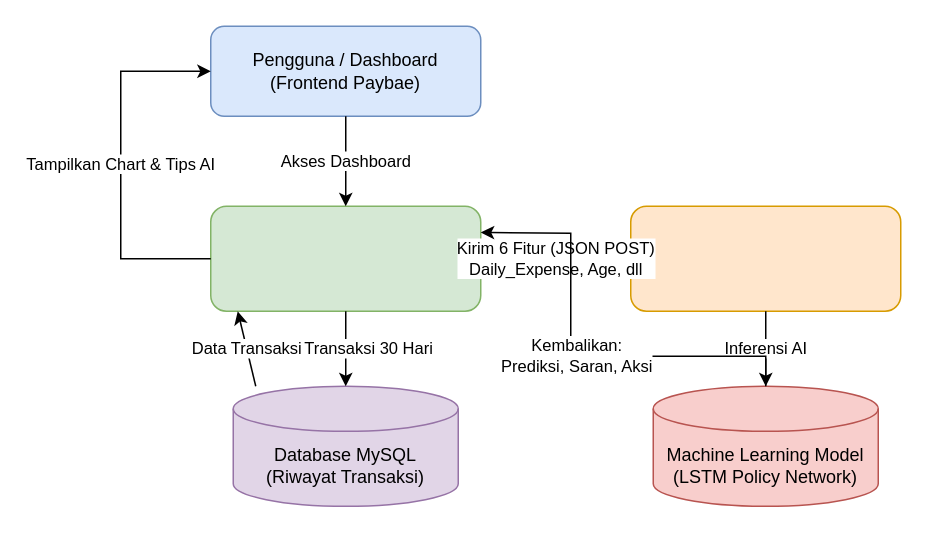
The diagram is 927 pixels wide and 533 high, and some of its shapes have lost their labels. Each missing label, with the centre of its shape:
"FastAPI / AI Service (Deployed on Railway)" goes at [765,258].
"Laravel Backend (UserController) Agregasi & Feature Engineering" goes at [345,258].
